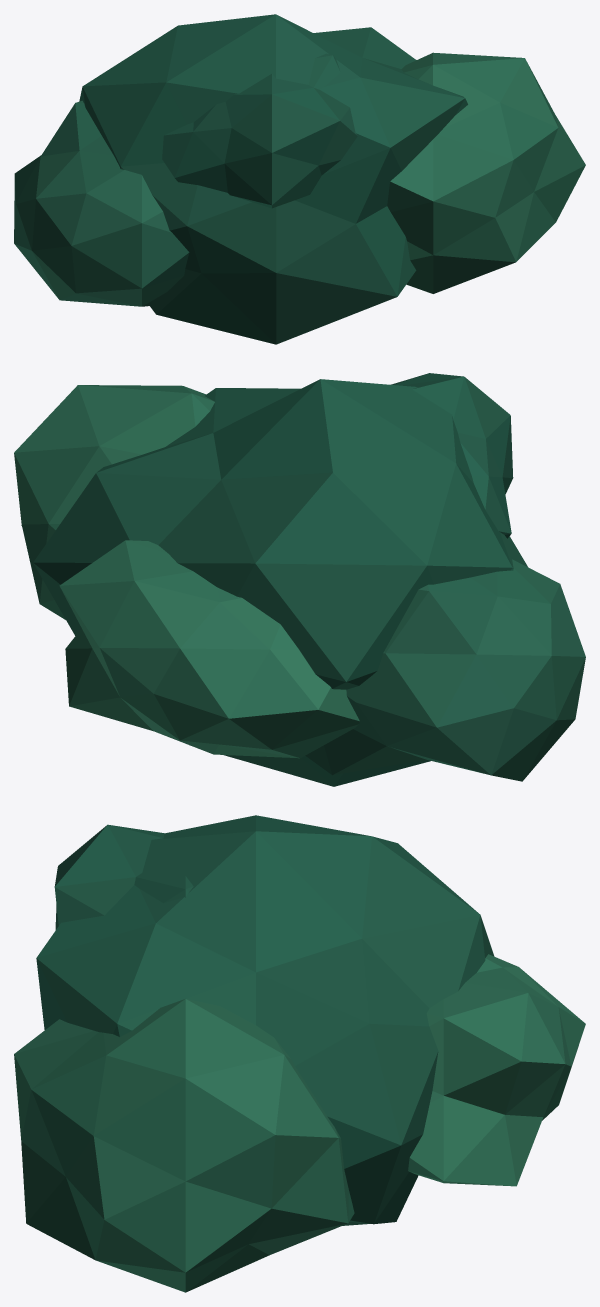
The model's file is bush.glb.
The picture shows the model from 3 angles, top to bottom: view 1: azimuth 30°, elevation 25°; view 2: azimuth 150°, elevation 25°; view 3: azimuth 270°, elevation 25°; orthographic projection. The views are drawn at different scales.
Visible parts, largest first — view 1: bush; view 2: bush; view 3: bush.
Boxes of the visible parts, x1,y1,x2,y2 form: bush: (14,14,585,344); bush: (14,373,585,786); bush: (14,815,585,1292).
Size of the model in its own units: 3.16 by 1.89 by 2.44.
